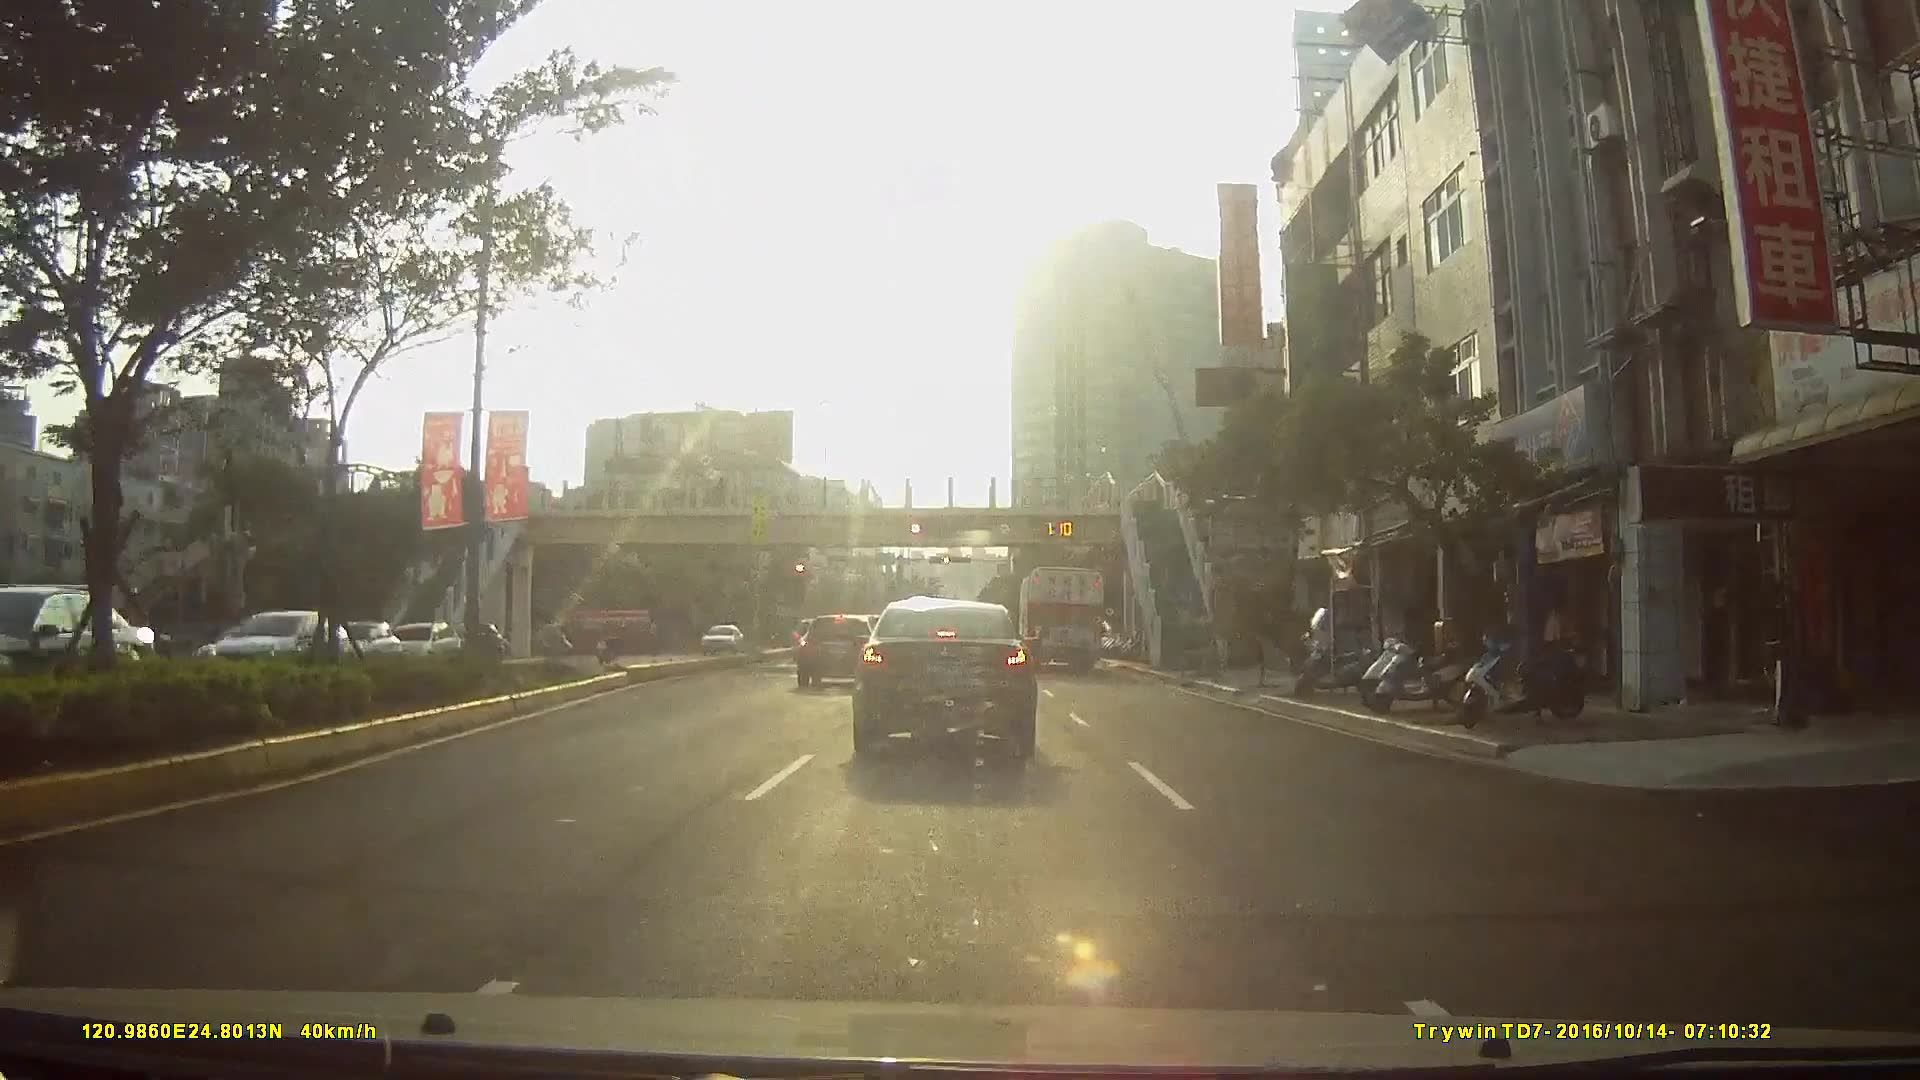rider: (593, 622, 627, 667)
vehicle: (848, 597, 1038, 757), (1015, 563, 1108, 674), (791, 611, 878, 691), (695, 622, 743, 658)
